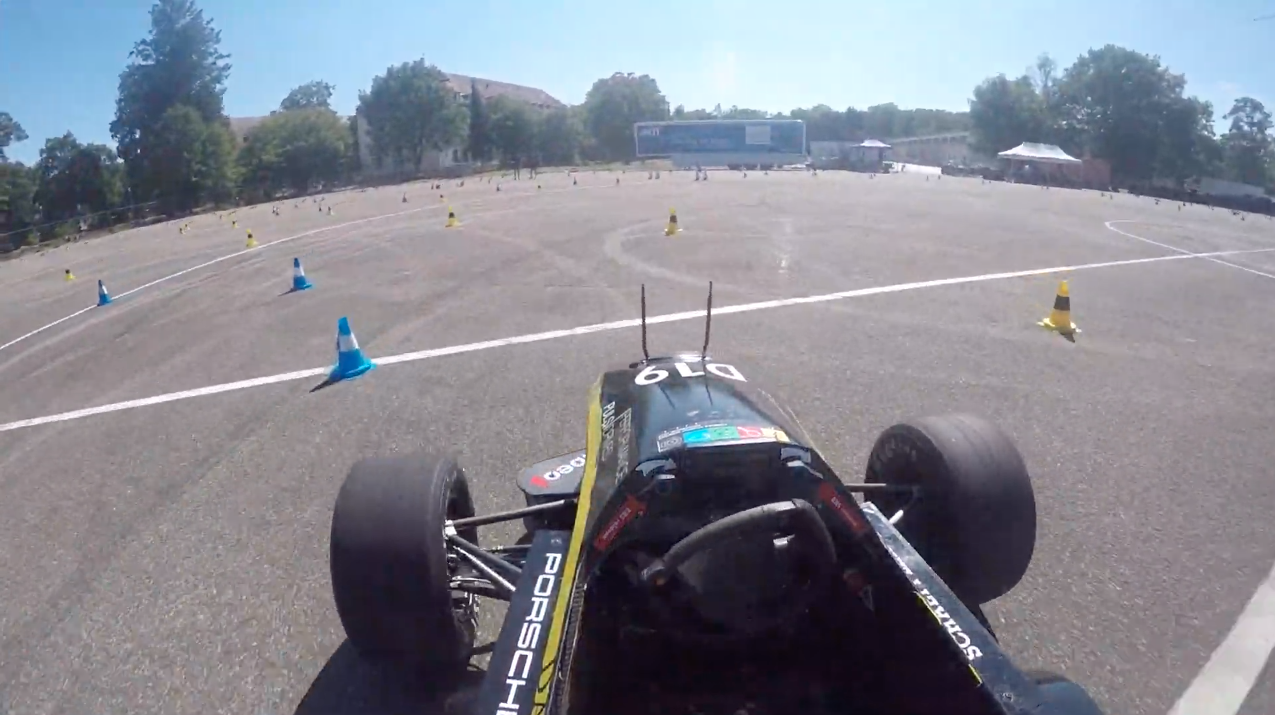lcone: (321, 314, 379, 382), (284, 253, 315, 293), (91, 275, 116, 308)
rcone: (1032, 277, 1082, 336), (662, 206, 687, 237)
